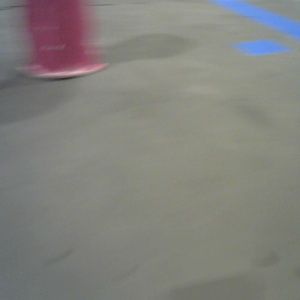middle: (17, 1, 105, 78)
